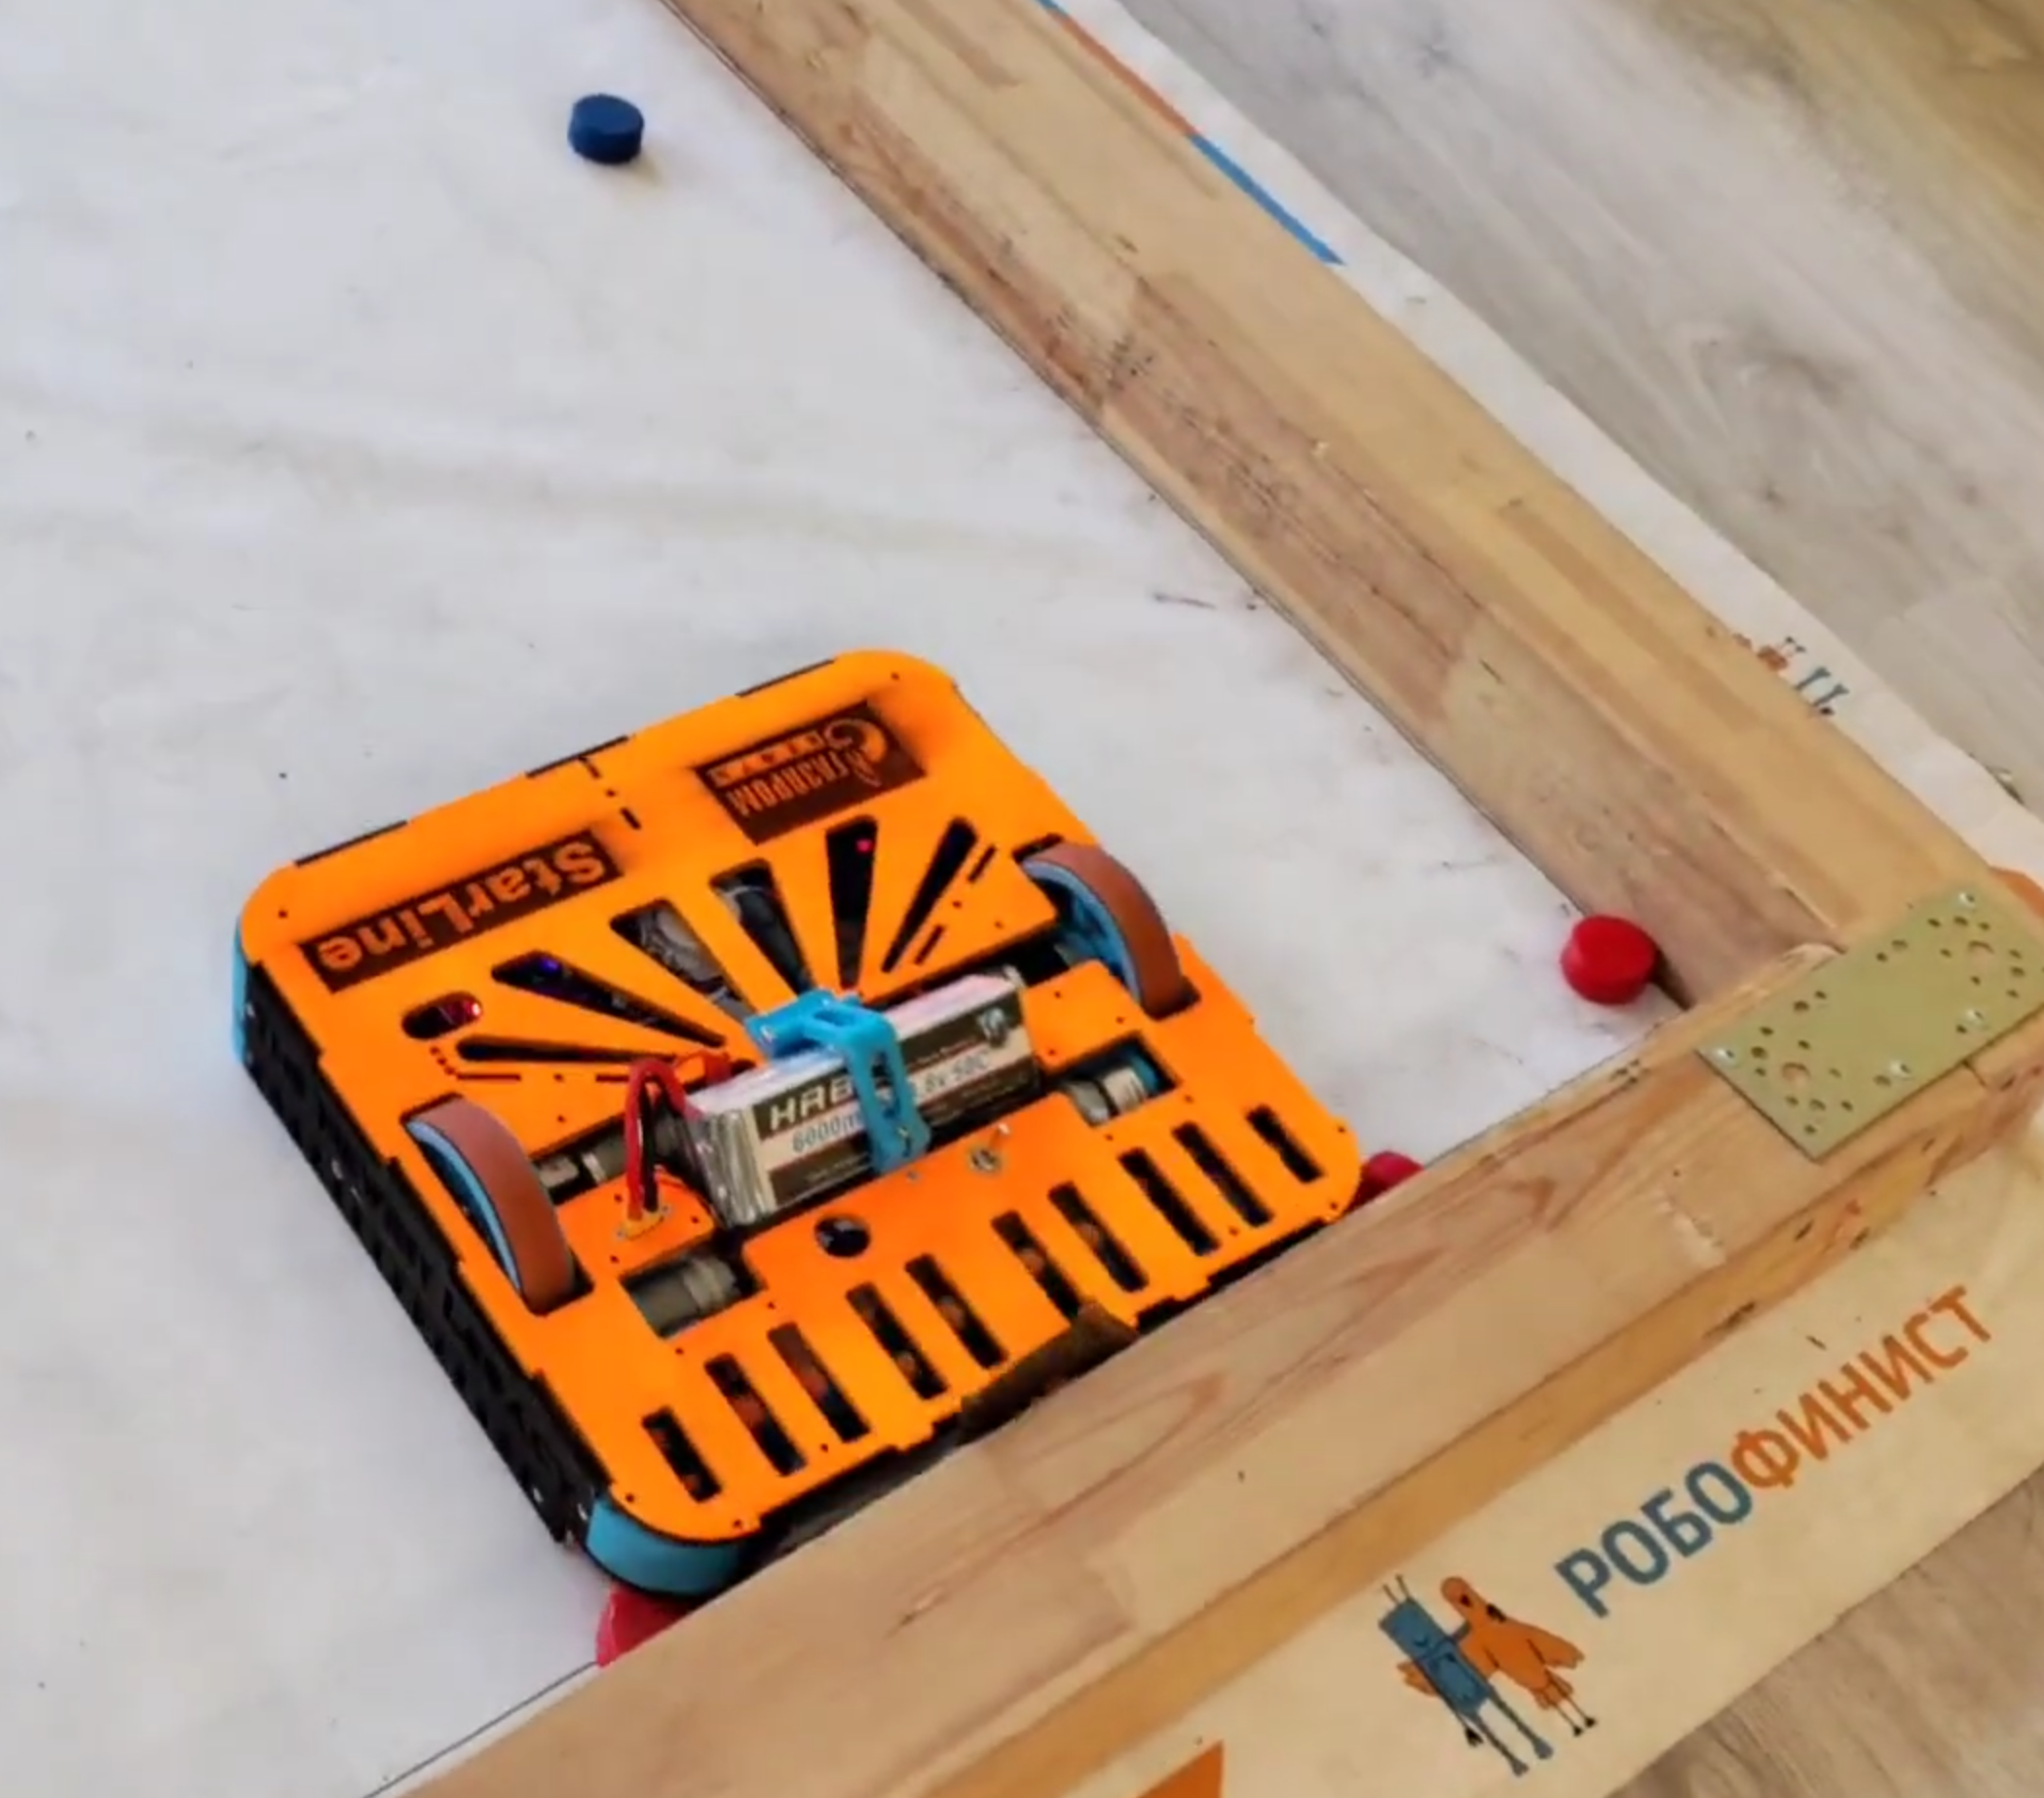puck: (1561, 917, 1656, 1001), (567, 94, 647, 163)
